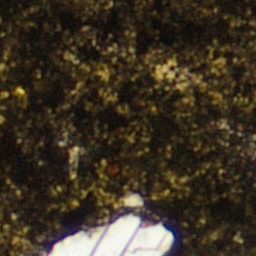cement_matrix: (0, 0, 255, 255), (122, 194, 141, 209), (158, 66, 170, 76)
gravel_crushed_stones: (49, 218, 168, 255), (123, 195, 140, 208), (159, 67, 169, 75)
